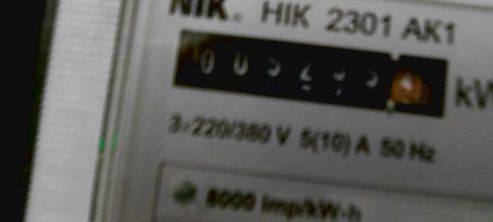0: (228, 43, 252, 79), (196, 43, 218, 76)
2: (294, 49, 319, 85)
3: (326, 51, 354, 86)
4: (394, 59, 420, 98)
5: (359, 54, 386, 92), (262, 46, 285, 81)
screen: (154, 10, 464, 134)
